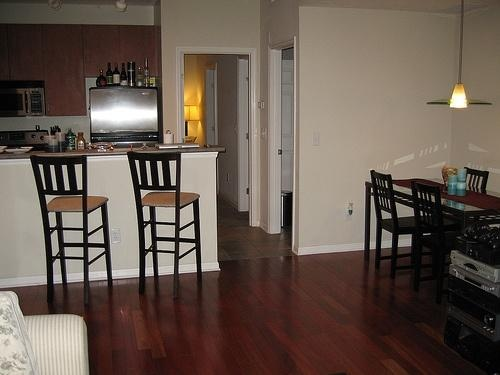chair: (27, 155, 118, 309), (125, 149, 208, 303), (369, 168, 423, 296), (412, 179, 461, 306), (458, 160, 492, 199)
